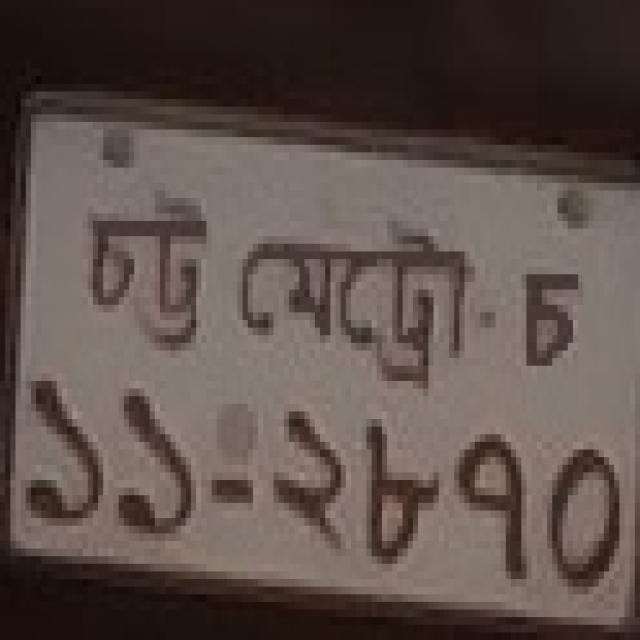cng: (238, 225, 472, 390), (88, 189, 208, 350), (522, 271, 579, 367)
numberplate: (4, 80, 638, 625)
